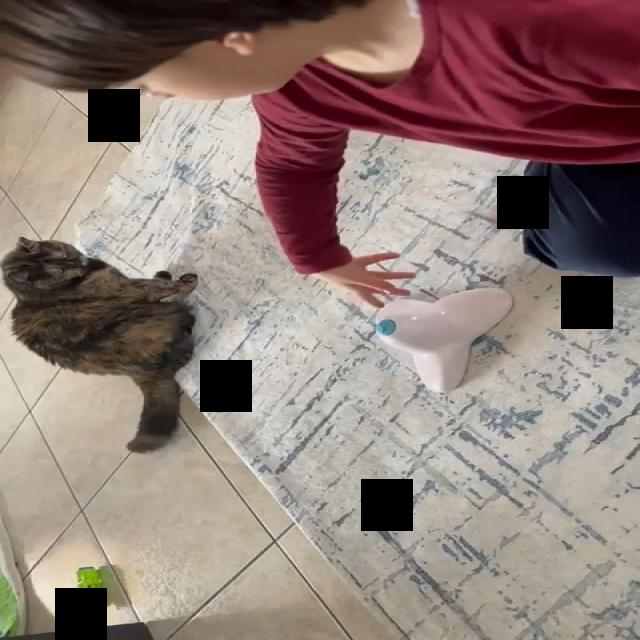authorized: (0, 236, 199, 454)
